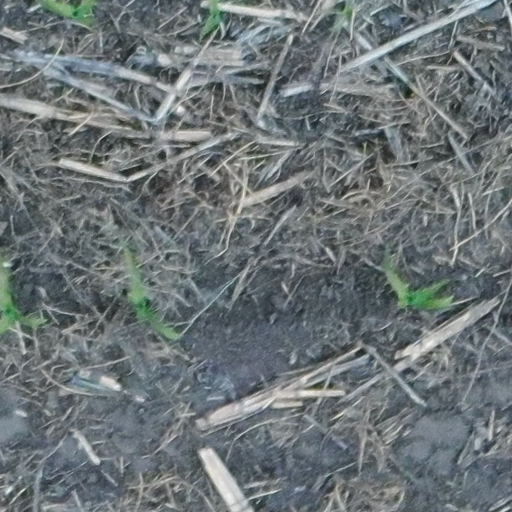planta: (119, 237, 185, 339), (383, 245, 454, 309)
